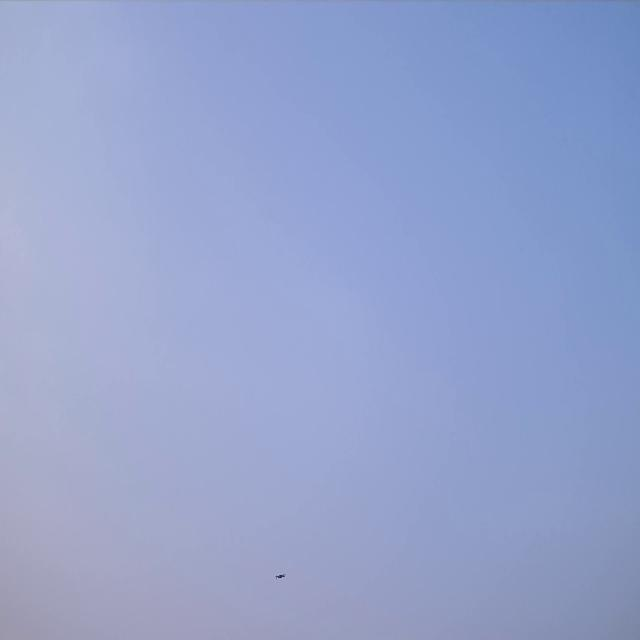UAV: (274, 573, 286, 580)
